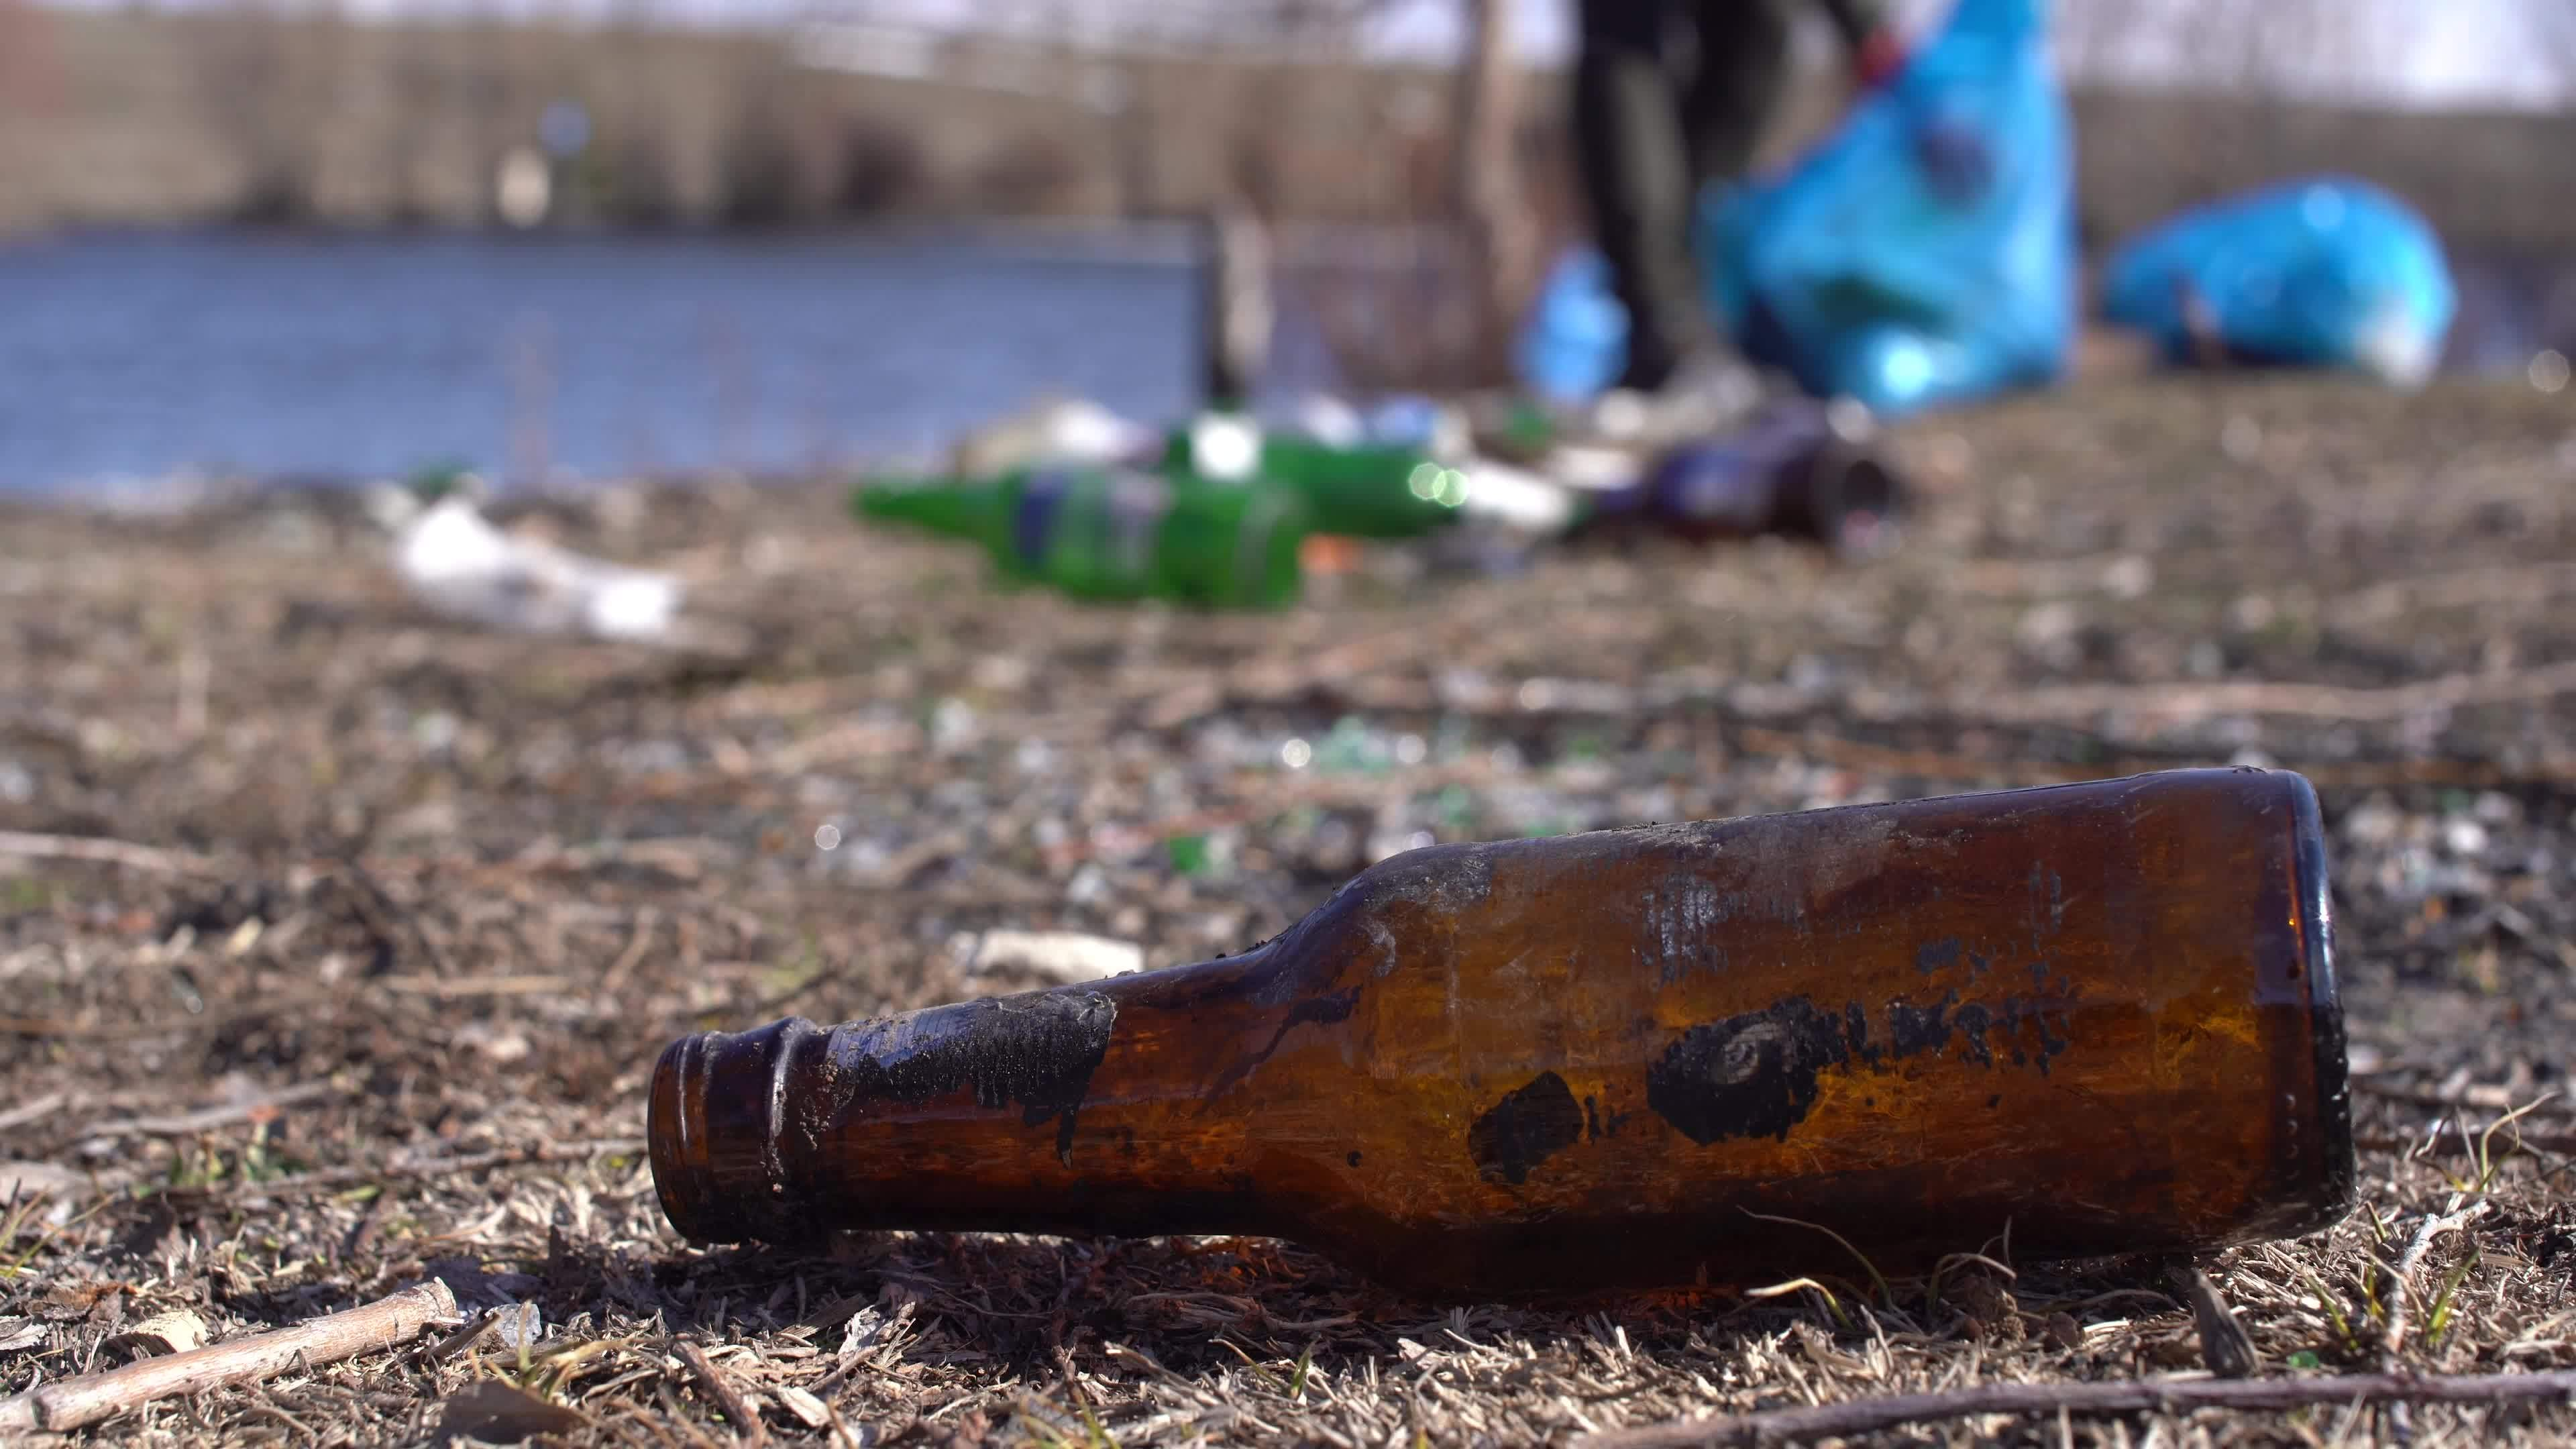glass_bottle: (609, 741, 2399, 1323)
